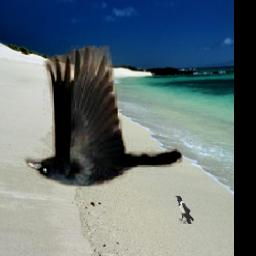Crow: (24, 46, 183, 189), (176, 195, 195, 224)
